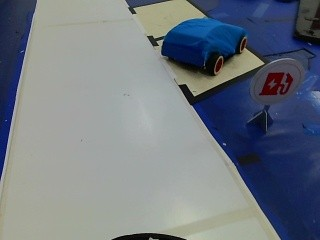battery: (255, 62, 296, 107)
car: (158, 16, 250, 82)
